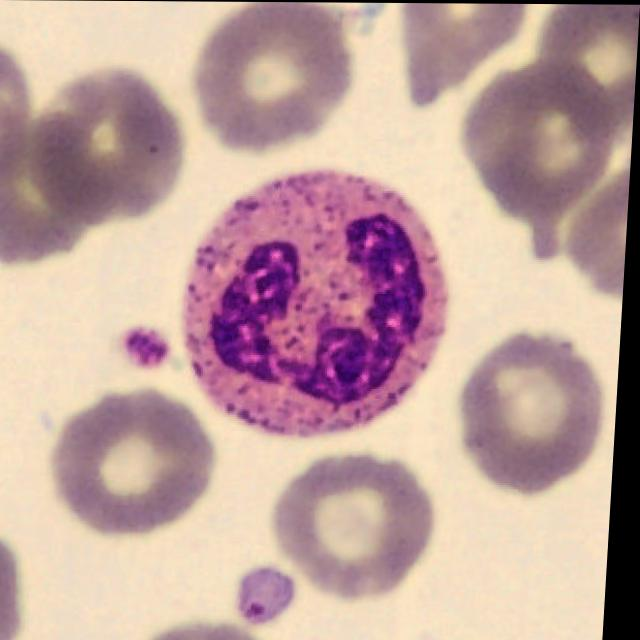Neutrofilo segmentado: (184, 171, 454, 438)
